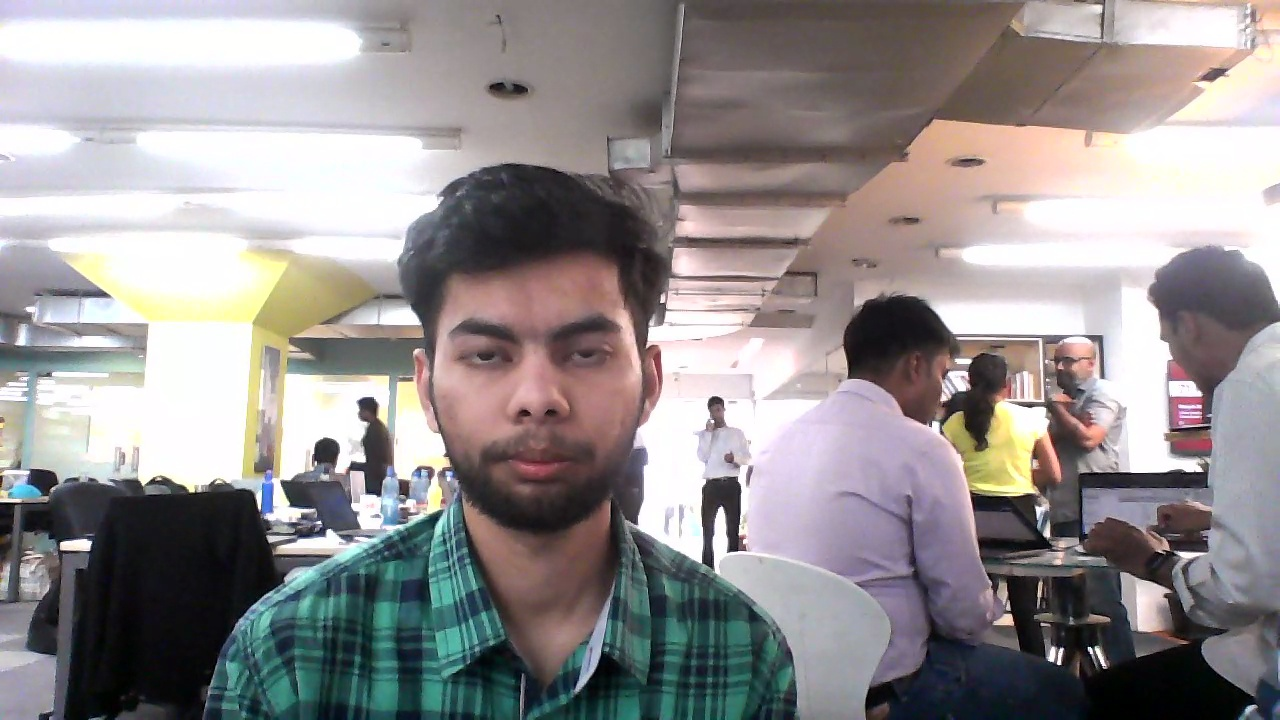open: (412, 172, 666, 540)
